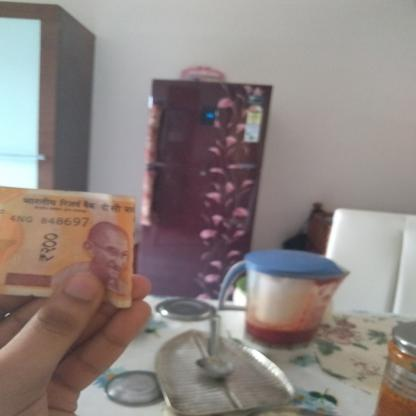New200Front: (2, 190, 136, 304)
